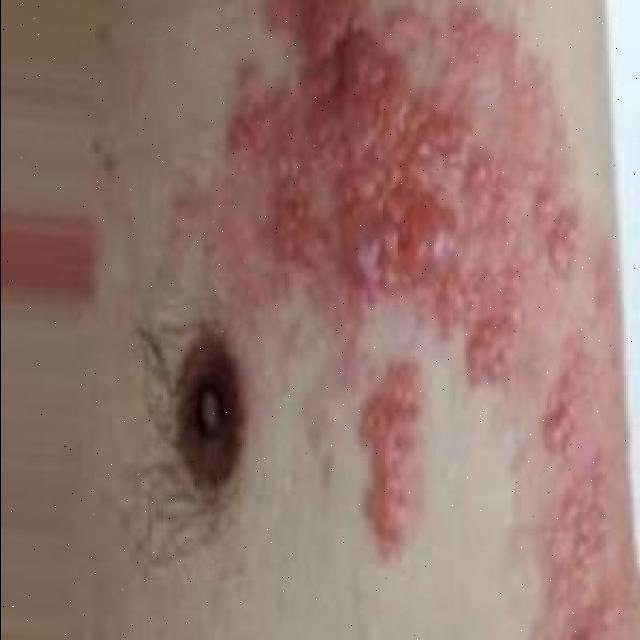Shingles: (221, 0, 581, 388), (547, 398, 625, 640), (348, 352, 428, 564)
